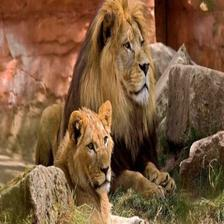lions: (68, 0, 176, 109), (36, 97, 128, 212)
